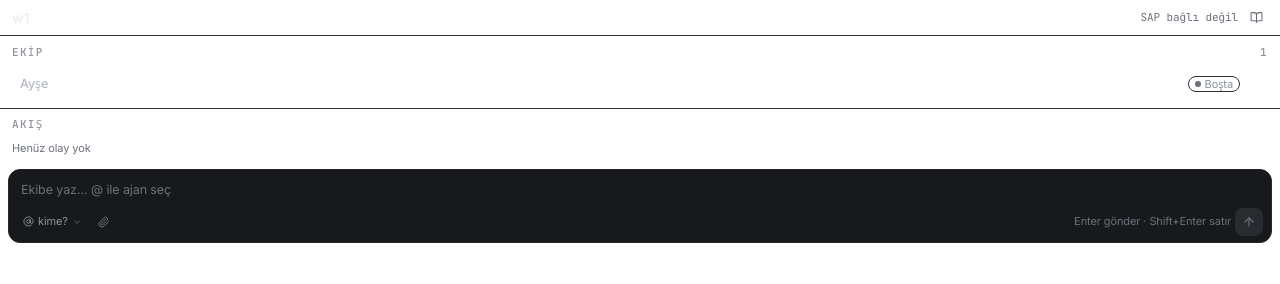
Test case: Akış mesaj kutusu — dosya ekleme › ataş: seçilen dosyalar çip olarak; gönderince yolları mesajda, çipler temizleniyor
In the dropdown named "Ajana mesaj": (640, 190) x1=17 y1=174 x2=1263 y2=208, type "@A"
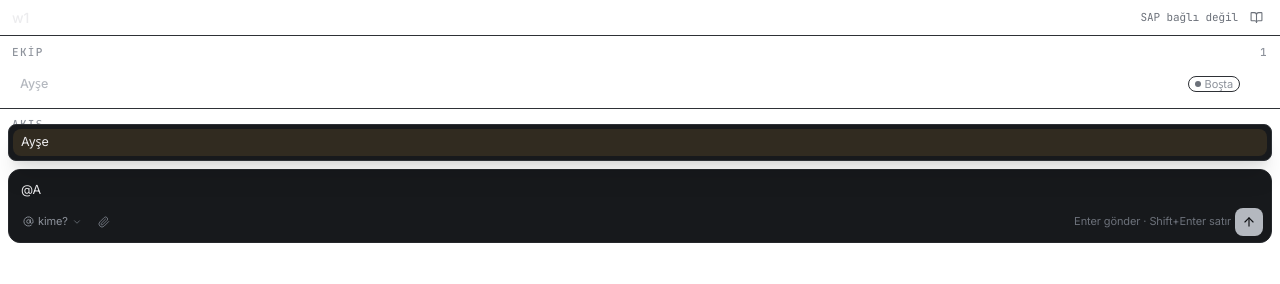
Press Enter in the dropdown named "Ajana mesaj", box x1=17 y1=174 x2=1263 y2=208
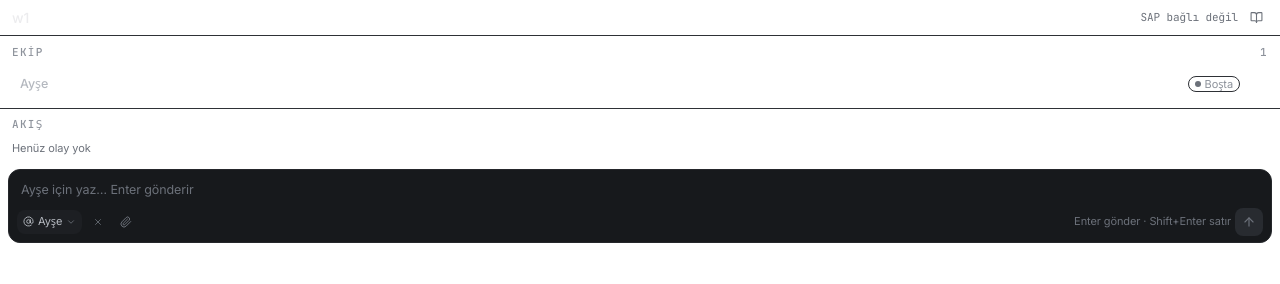
Click the button named "Dosya ekle": (126, 222) x1=114 y1=210 x2=138 y2=234
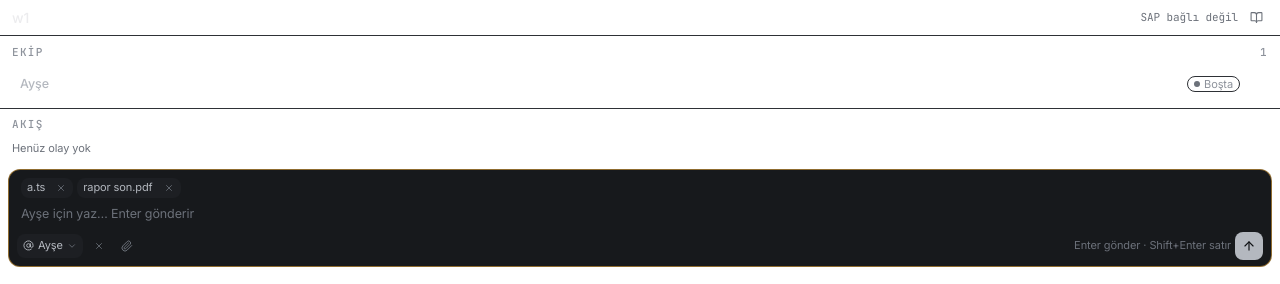
Check: the text "a.ts" is shown, box x1=27 y1=179 x2=45 y2=196
Check: the text "rapor son.pdf" is shown, box x1=83 y1=179 x2=153 y2=196
In the dropdown named "Ajana mesaj": (640, 214) x1=17 y1=198 x2=1263 y2=232, type "bunlara bak"
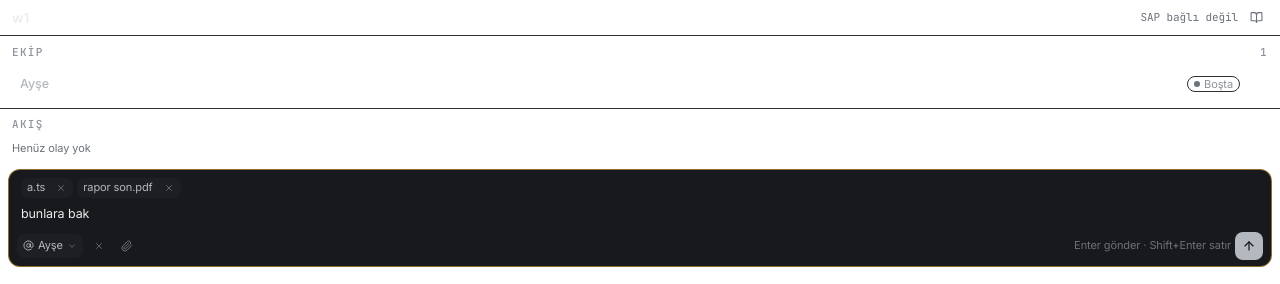
Press Enter in the dropdown named "Ajana mesaj", box x1=17 y1=198 x2=1263 y2=232
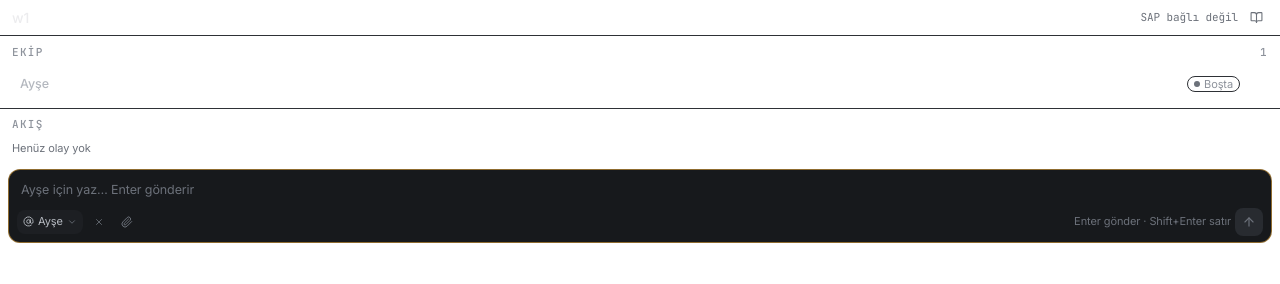
Check: the text "a.ts" is gone
